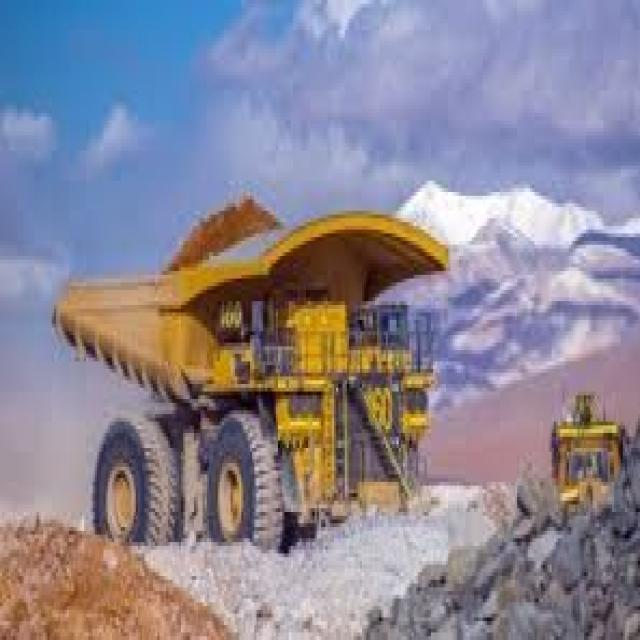dump_truck: (45, 150, 448, 580)
